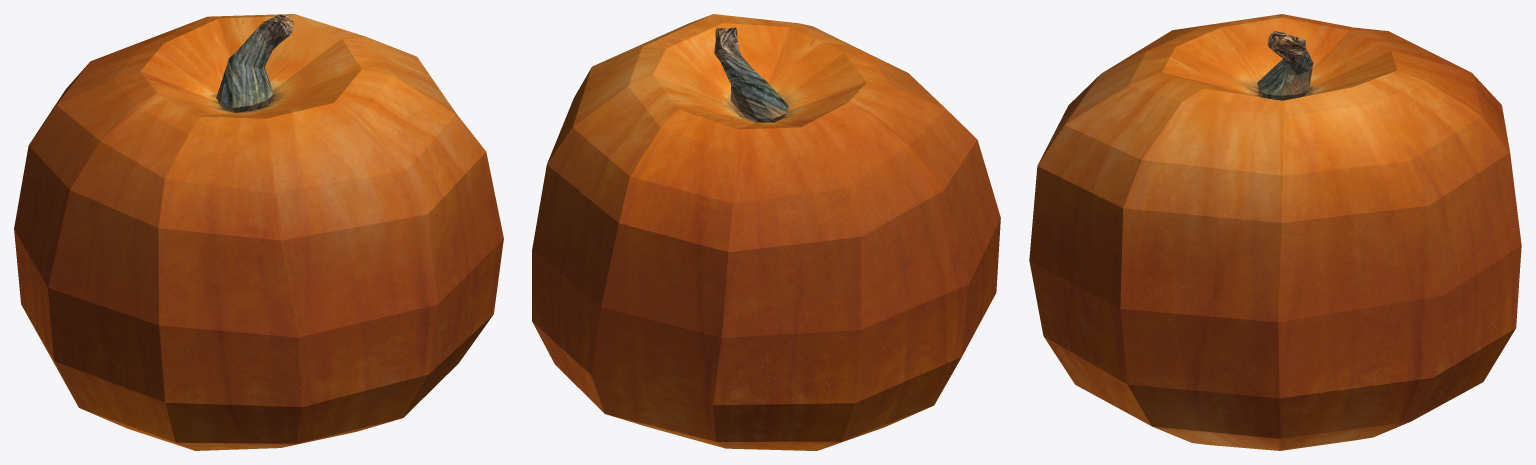
The model's file is Pumpkin.fbx.
3 renders of one model, left to right at view 1: azimuth 30°, elevation 25°; view 2: azimuth 150°, elevation 25°; view 3: azimuth 270°, elevation 25°, orthographic. The views are drawn at different scales.
Visible parts, largest first — view 1: pumpkin:pumpkin; view 2: pumpkin:pumpkin; view 3: pumpkin:pumpkin.
Part boxes in pixels (x1=…): pumpkin:pumpkin: x1=14, y1=14, x2=503, y2=450; pumpkin:pumpkin: x1=532, y1=14, x2=1000, y2=450; pumpkin:pumpkin: x1=1029, y1=14, x2=1521, y2=450.
Size of the model in its own units: 1.18 by 1.03 by 1.18.
1 material, 1 textured.
